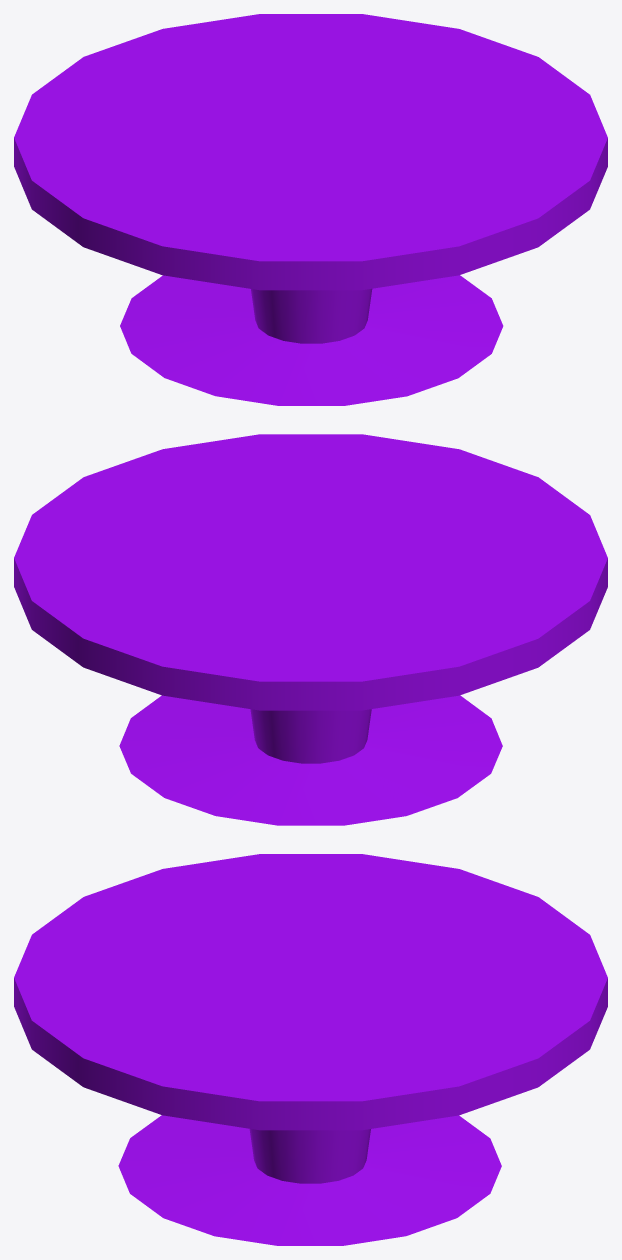
The model's file is CoffeeTable.fbx.
3 views of the same model, one above another, from view 1: azimuth 30°, elevation 25°; view 2: azimuth 150°, elevation 25°; view 3: azimuth 270°, elevation 25° (orthographic).
Parts seen in each view (by area): view 1: CoffeTable; view 2: CoffeTable; view 3: CoffeTable.
Boxes of the visible parts, x1,y1,x2,y2 form: CoffeTable: (14,14,607,405); CoffeTable: (14,434,607,825); CoffeTable: (14,854,607,1245).
Bounding box in the file's own units: 91.53 × 32.5 × 92.93.
